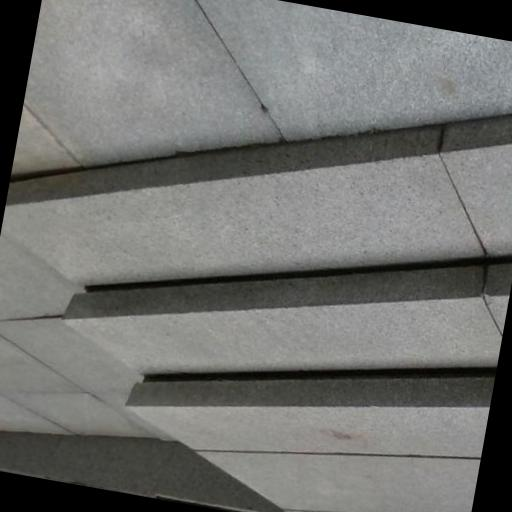stairs: (2, 116, 511, 460)
